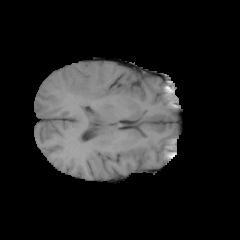glioma: (56, 65, 116, 107)
